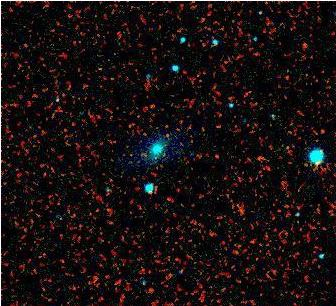star: (289, 29, 319, 59)
